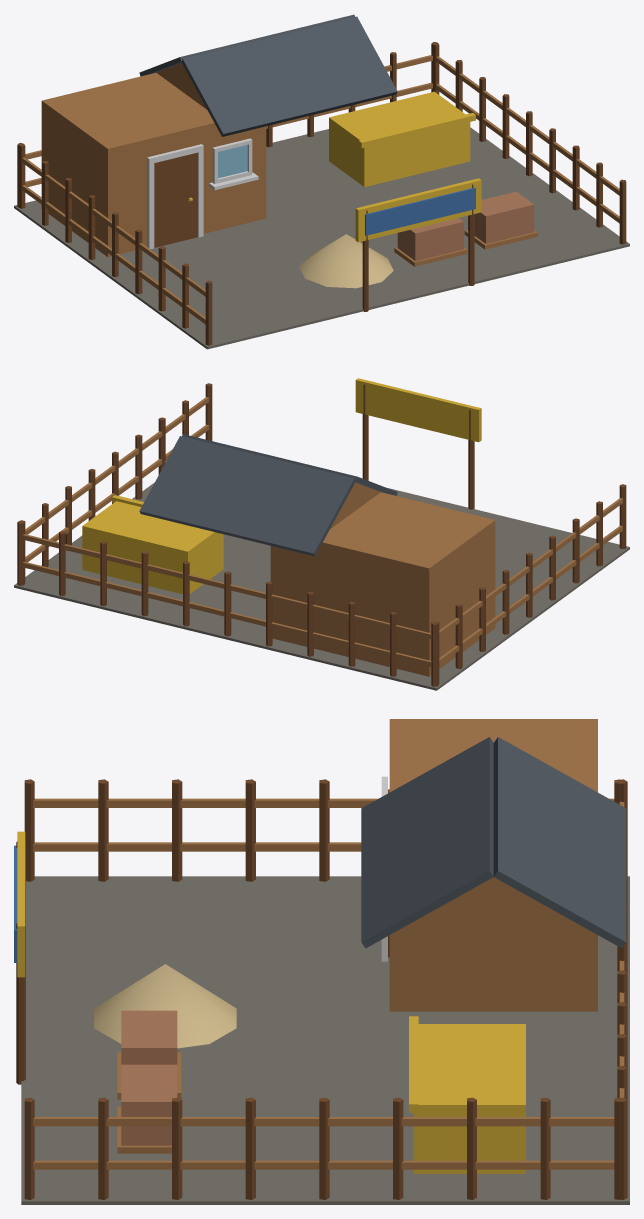
The model's file is yard.gltf.
The picture shows the model from 3 angles, top to bottom: view 1: azimuth 30°, elevation 25°; view 2: azimuth 150°, elevation 25°; view 3: azimuth 270°, elevation 25°; orthographic projection. The views are drawn at different scales.
Parts seen in each view (by area): view 1: yard; view 2: yard; view 3: yard.
Part boxes in pixels (x1=…): yard: x1=14, y1=14, x2=629, y2=349; yard: x1=14, y1=378, x2=629, y2=690; yard: x1=14, y1=719, x2=629, y2=1204.
Bounding box in the file's own units: 9.6 × 3.29 × 7.69.
